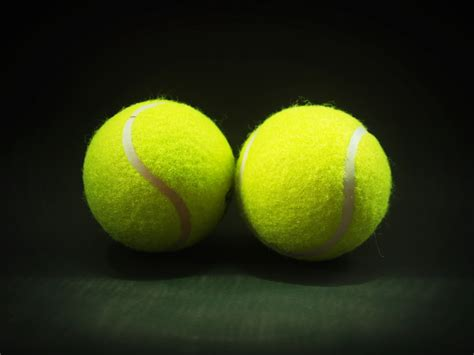tennis_ball: (237, 103, 394, 261), (82, 98, 236, 253)
